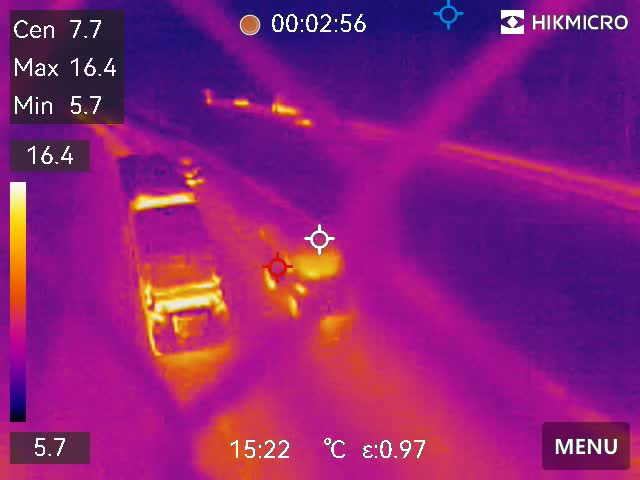heavyTruck: (113, 150, 230, 358)
